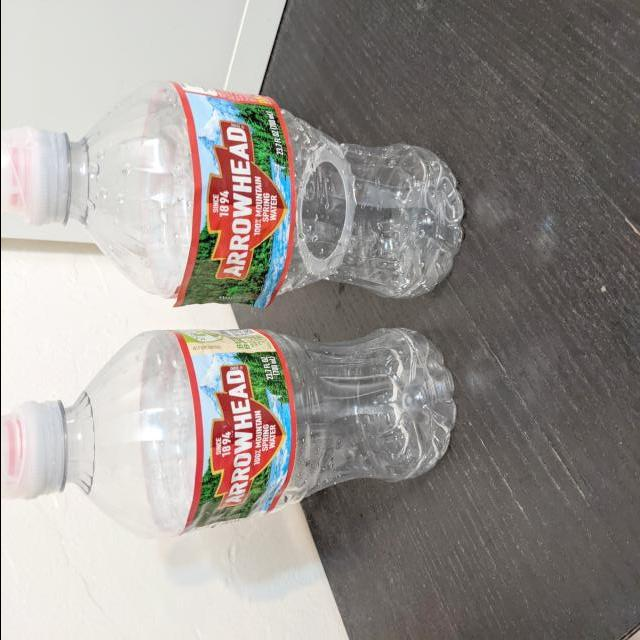cap: (0, 396, 65, 504)
label: (188, 328, 285, 534)
not-crumbled: (0, 318, 460, 542)
